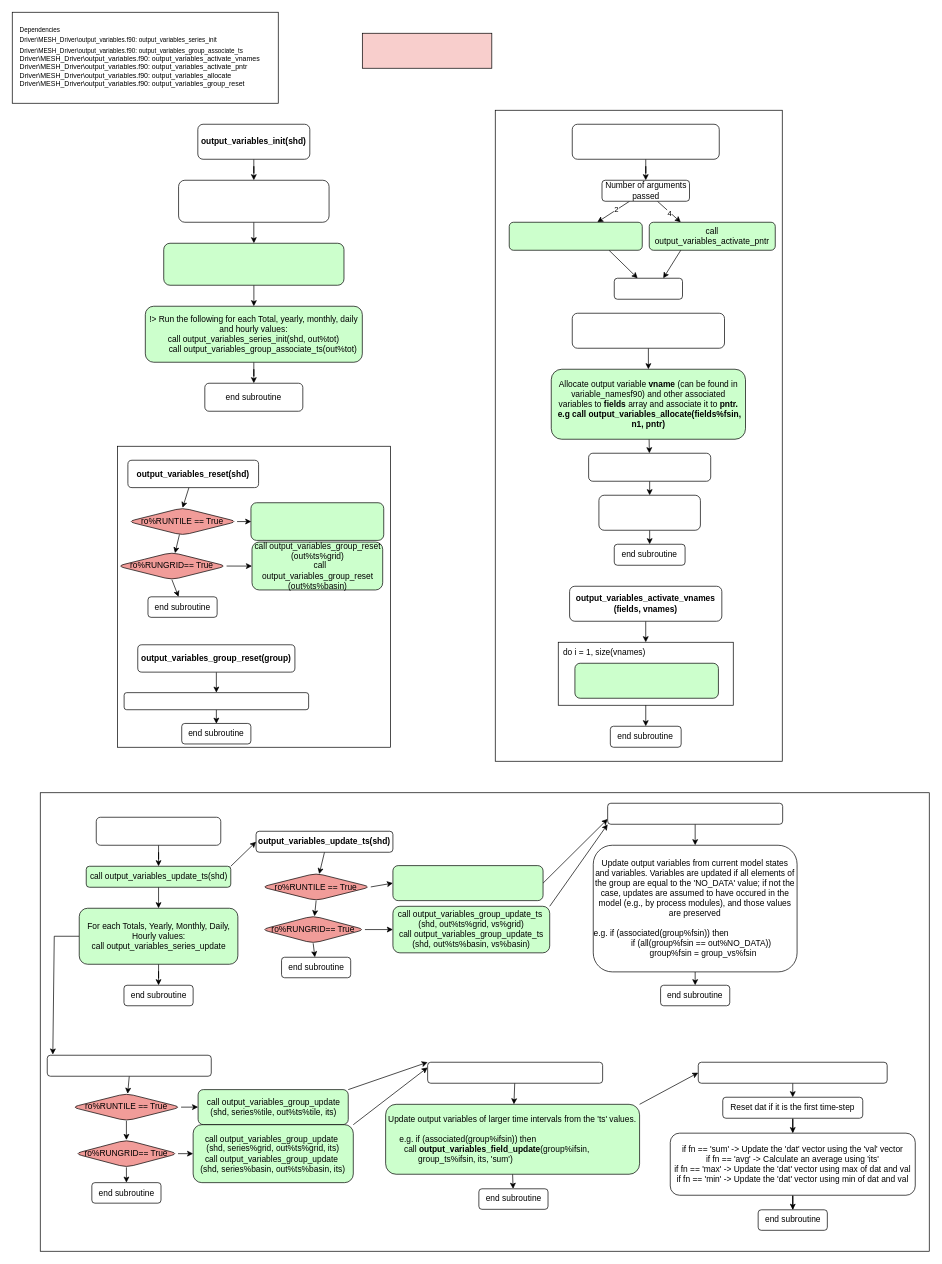
This 942x1264 diagram has some shape labels left out. The centre of each missing label's shape, as x and y in pixels:
"!> Initialize 'timestep' values call output_variables_series_init(shd, out%ts)" belongs at [253,264].
"Assign 'NO_DATA' to pntr is pointer not assigned" belongs at [649,512].
"call output_variables_activate_pntr (fields, vnames(i))" belongs at [646,680].
"call output_variables_activate_vnames" belongs at [575,236].
"call output_variables_group_reset (out%ts%tile)" belongs at [317,521].
"call output_variables_group_update_ts (shd, out%ts%tile, vs%tile)" belongs at [467,883].
"end interface" belongs at [648,288].
"Initialize shd variable type(ShedGridParams), intent(in) :: shd" belongs at [253,201].
"Initialize variablesin group to 0.0 or NO_data" belongs at [216,701].
"inteface output_variables_activate" belongs at [645,141].
"output_variables.f90" belongs at [427,50].
"output_variables_activate_pntr (fields, vname, pntr, ig)" belongs at [648,330].
"output_variables_field_update(dat, val, its, fn)" belongs at [792,1072].
"output_variables_group_update(shd, group, group_vs)" belongs at [515,1072].
"output_variables_group_update_ts(shd, group, group_vs)" belongs at [695,813].
"output_variables_series_update(shd, series, its)" belongs at [129,1065].
"output_variables_update(shd)" belongs at [158,831].
"Recurse on certain vname e.g. VN_STGW, etc." belongs at [649,467].
